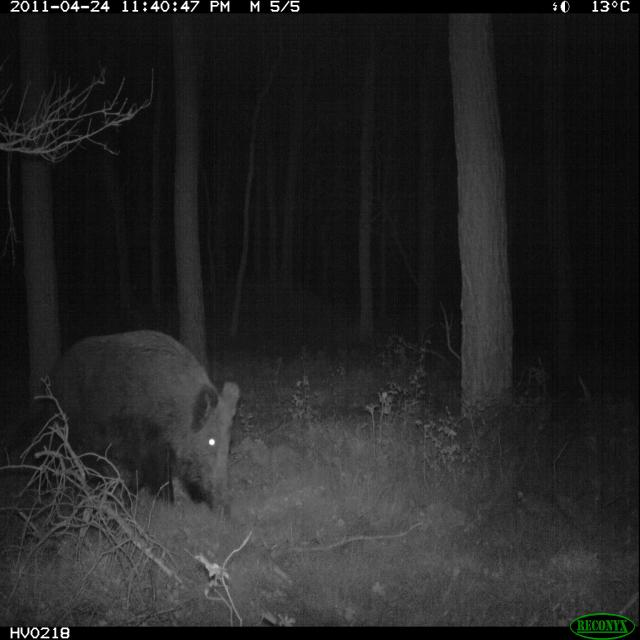boar: (28, 301, 252, 539)
